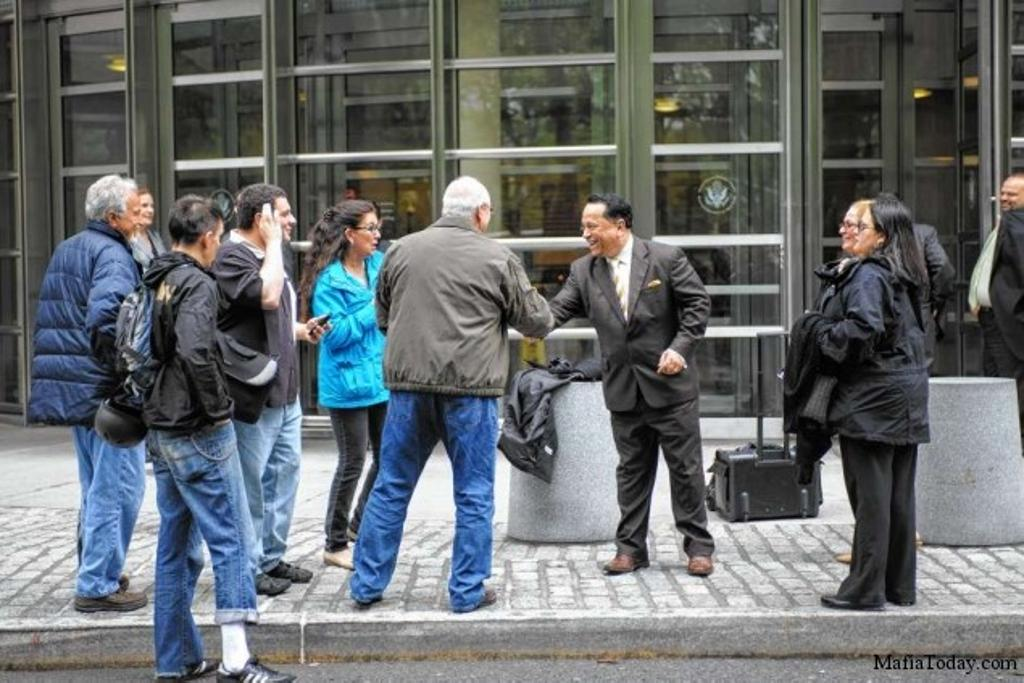face: (581, 203, 616, 255), (265, 195, 297, 241), (354, 211, 382, 255), (117, 190, 140, 240), (853, 207, 875, 253), (839, 204, 858, 249), (207, 216, 223, 266), (1000, 181, 1020, 212), (398, 191, 419, 220), (135, 195, 154, 224), (1009, 182, 1024, 210)
